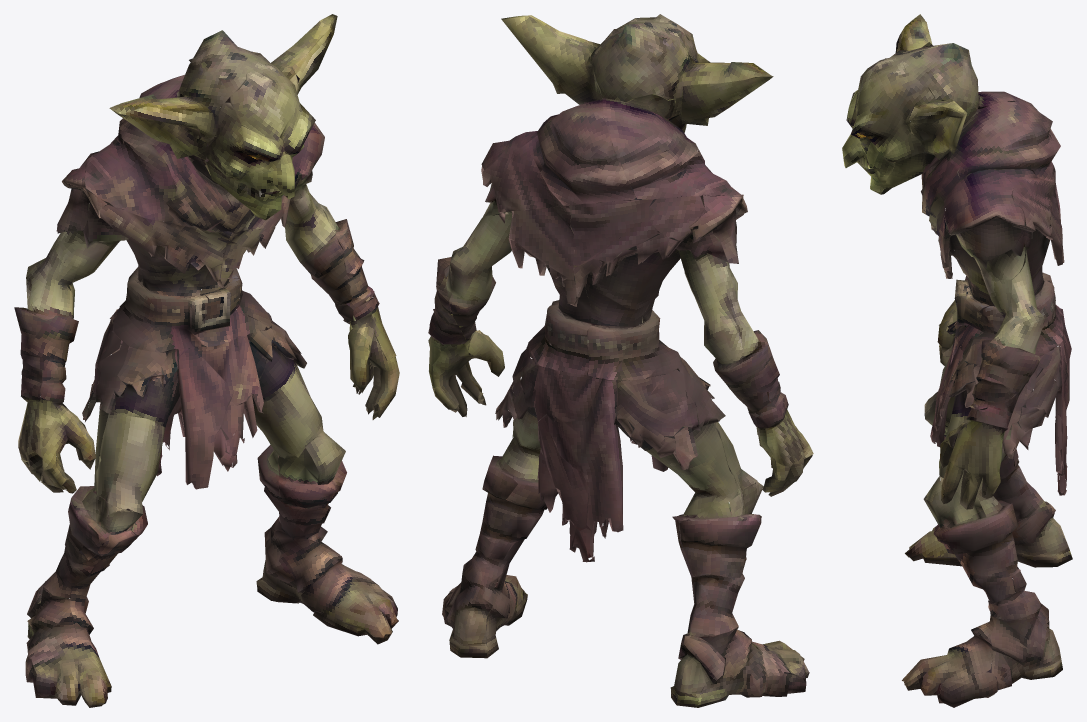
File: tripo_gobelin.glb
The picture shows the model from 3 angles, left to right: view 1: azimuth 30°, elevation 25°; view 2: azimuth 150°, elevation 25°; view 3: azimuth 270°, elevation 25°; orthographic projection. The views are drawn at different scales.
Parts seen in each view (by area): view 1: tripo_gobelin; view 2: tripo_gobelin; view 3: tripo_gobelin.
Boxes of the visible parts, left/top/right/bottom form: tripo_gobelin: left=14, top=14, right=399, bottom=707; tripo_gobelin: left=428, top=14, right=813, bottom=707; tripo_gobelin: left=842, top=14, right=1072, bottom=707.
Size of the model in its own units: 1.1 by 1.8 by 0.643.
Materials: 1 (1 with a texture image).
